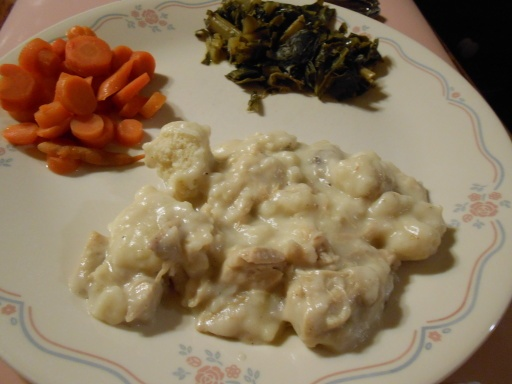background: (0, 14, 358, 212), (153, 0, 306, 70)
